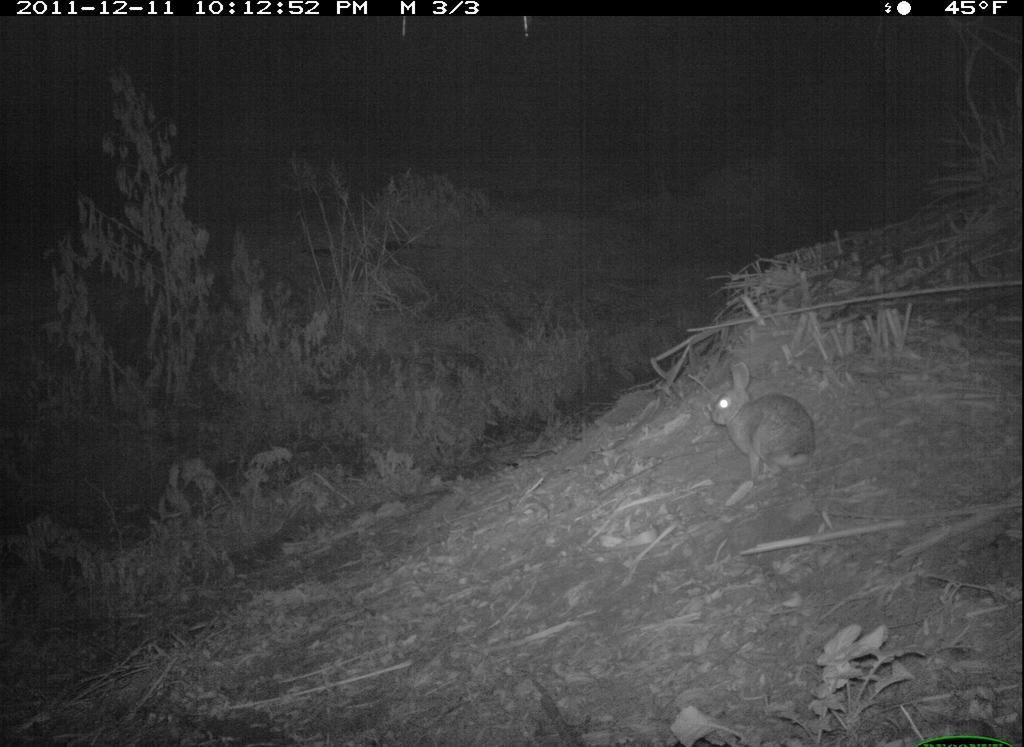rabbit: (701, 356, 825, 491)
